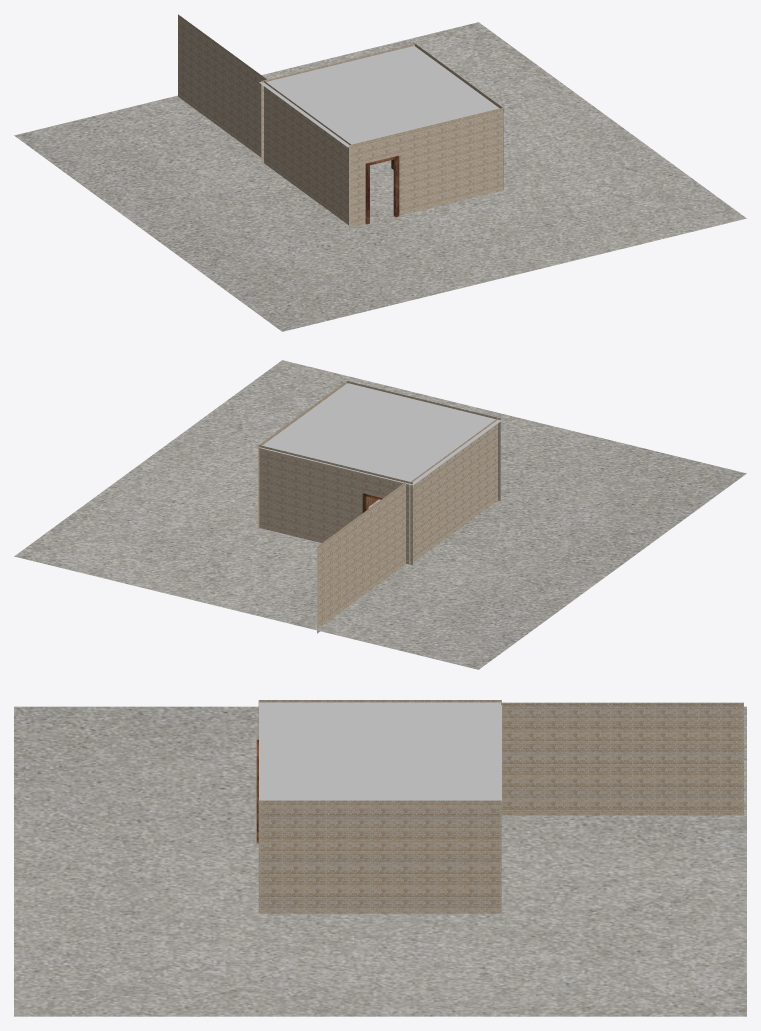
Rendered from Bancada.fbx.
3 views of the same model, one above another, from view 1: azimuth 30°, elevation 25°; view 2: azimuth 150°, elevation 25°; view 3: azimuth 270°, elevation 25° (orthographic). The views are drawn at different scales.
Visible parts, largest first — view 1: Chão, Teto, Parede da esquerda, Corredor, Parede da frente, Moldura, Paredes da direita; view 2: Chão, Teto, Paredes da direita, Corredor, Parede da frente, Parede da esquerda; view 3: Chão, Parede de trás, Corredor, Teto, Parede da frente.
Boxes of the visible parts, x1,y1,x2,y2 form: Chão: [14, 22, 746, 331]; Teto: [259, 46, 499, 147]; Parede da esquerda: [349, 108, 502, 227]; Corredor: [178, 14, 266, 157]; Parede da frente: [263, 80, 350, 224]; Moldura: [365, 155, 399, 224]; Paredes da direita: [261, 43, 415, 163]; Chão: [14, 360, 746, 669]; Teto: [259, 383, 501, 485]; Paredes da direita: [259, 445, 412, 565]; Corredor: [317, 482, 405, 633]; Parede da frente: [409, 418, 497, 564]; Parede da esquerda: [346, 381, 500, 500]; Chão: [14, 706, 746, 1016]; Parede de trás: [258, 800, 501, 913]; Corredor: [501, 702, 743, 815]; Teto: [259, 700, 501, 802]; Parede da frente: [258, 700, 501, 739].
Bounding box in the file's own units: 5711 × 1022 × 5711.
